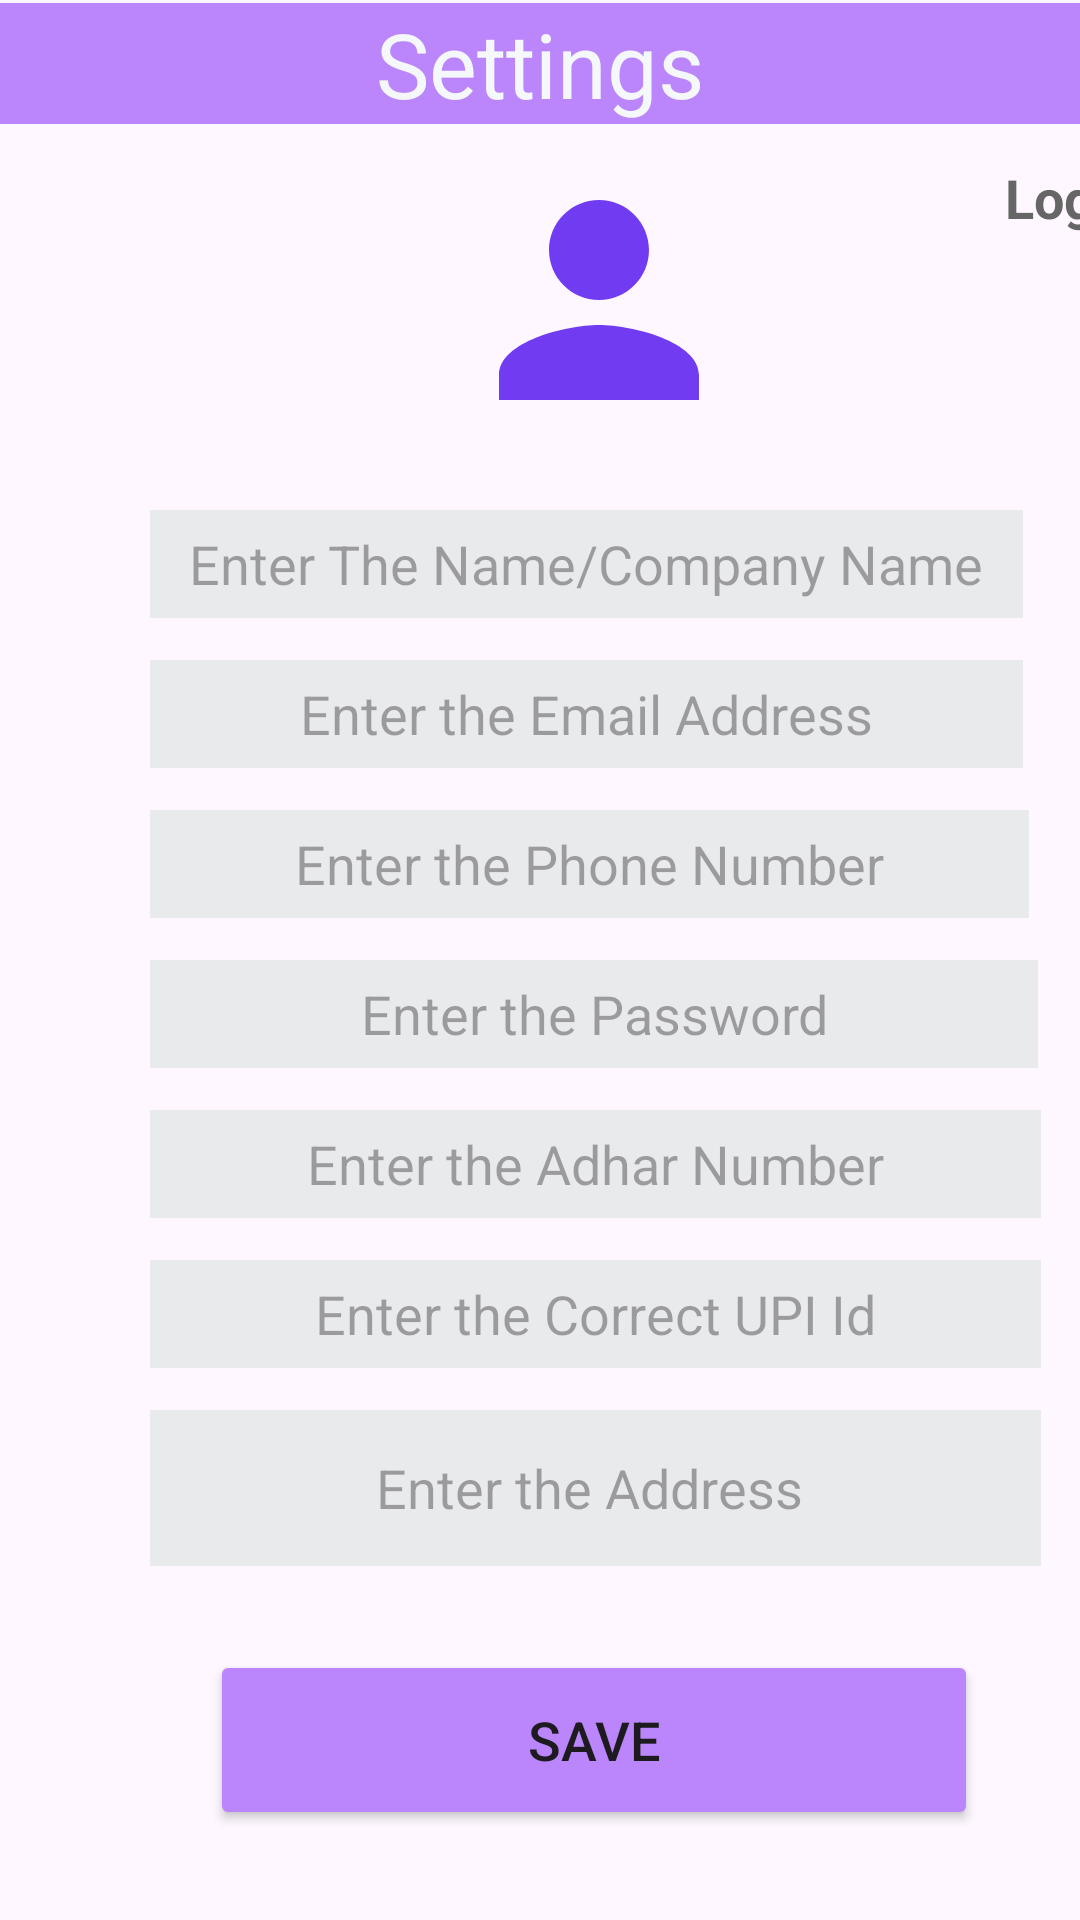

Locate icon controls on the screen. Image size 1080*1920, boxes as (x1, y1, x2, y2).
person: (499, 200, 699, 400)
